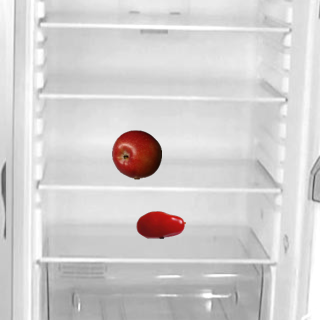Apple Braeburn: (111, 129, 161, 179)
Tomato 2: (135, 199, 185, 249)
